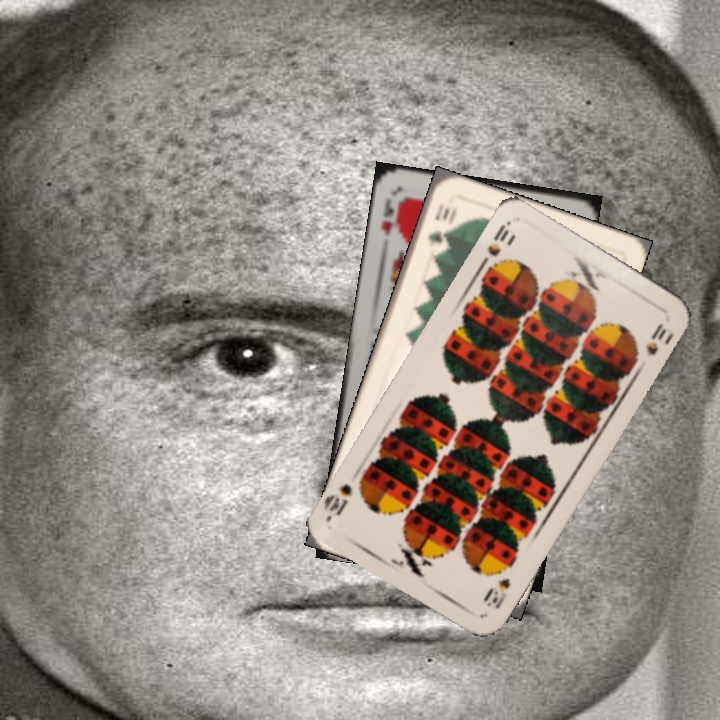G10: (424, 198, 453, 249)
HK: (376, 193, 396, 239)
S10: (475, 218, 513, 271), (481, 573, 513, 611)
